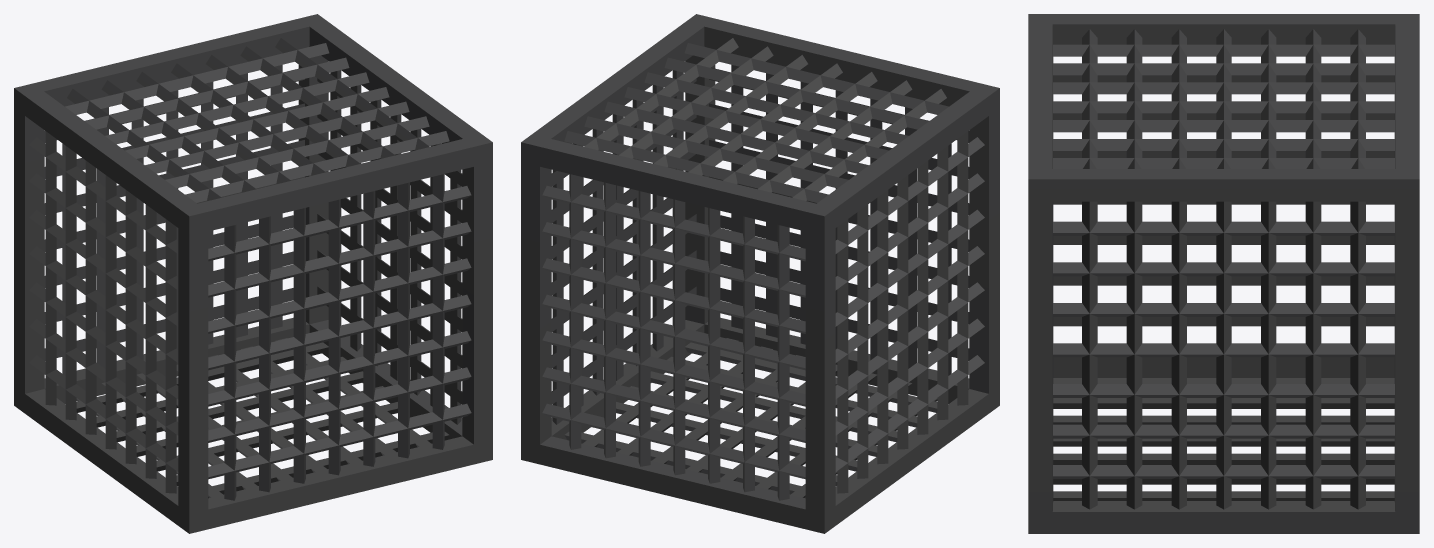
File: Scaffold_Part_Steel_A.fbx
The picture shows the model from 3 angles, left to right: view 1: azimuth 30°, elevation 25°; view 2: azimuth 150°, elevation 25°; view 3: azimuth 270°, elevation 25°; orthographic projection. The views are drawn at different scales.
Parts seen in each view (by area): view 1: Scaffold_Part_Steel_A; view 2: Scaffold_Part_Steel_A; view 3: Scaffold_Part_Steel_A.
Boxes of the visible parts, bbox=[...] form: Scaffold_Part_Steel_A: bbox=[14, 14, 492, 533]; Scaffold_Part_Steel_A: bbox=[521, 14, 999, 533]; Scaffold_Part_Steel_A: bbox=[1028, 14, 1419, 533].
Size of the model in its own units: 63.48 by 63.48 by 63.48.
